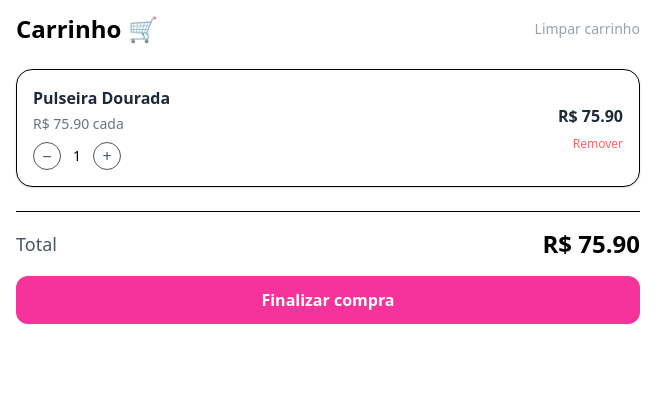
Scenario: Fluxo de pedido — carrinho › exibe mensagem de erro quando a API retorna falha
This screenshot has width=657, height=401.
Click the button "Finalizar compra" at (328, 300), box [16,276,640,324]
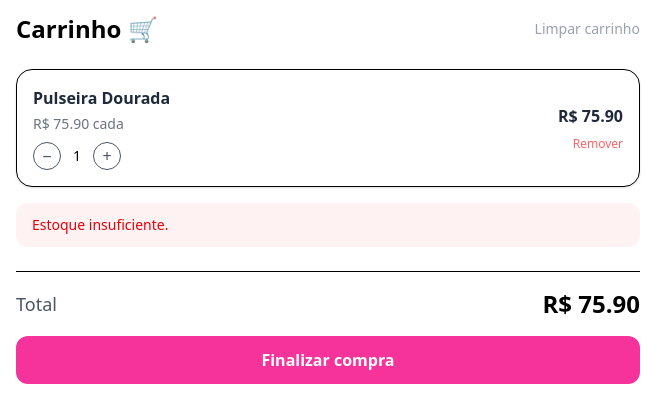
Check: the text "Estoque insuficiente." is shown, box [16,203,640,247]
